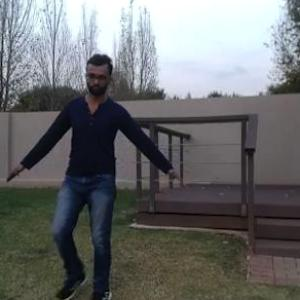land: (27, 68, 158, 294)
